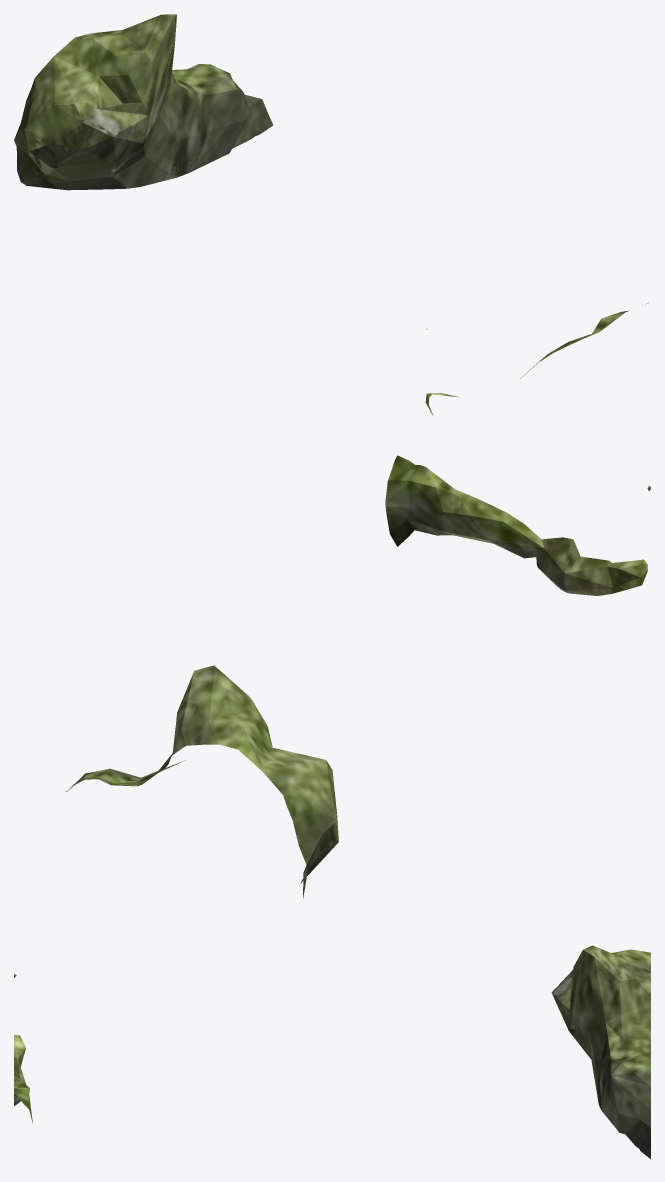
3 views of the same model, one above another, from view 1: azimuth 30°, elevation 25°; view 2: azimuth 150°, elevation 25°; view 3: azimuth 270°, elevation 25° (orthographic). The views are drawn at different scales.
Size of the model in its own units: 1.36 by 0.7726 by 2.95.
1 material, 1 textured.
